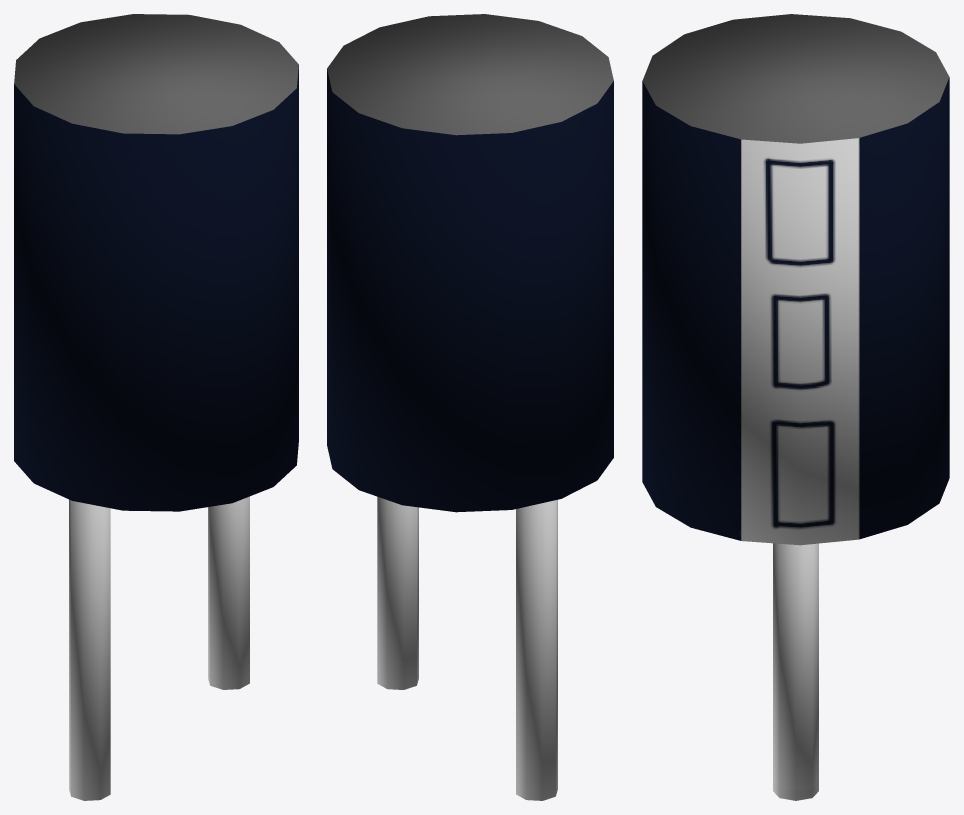
File: capacitorElectrolyzte.glb
3 views of the same model, side by side, from view 1: azimuth 30°, elevation 25°; view 2: azimuth 150°, elevation 25°; view 3: azimuth 270°, elevation 25° (orthographic). The views are drawn at different scales.
Visible parts, largest first — view 1: CElectrolyzte; view 2: CElectrolyzte; view 3: CElectrolyzte.
Boxes of the visible parts, <box> form: CElectrolyzte: <box>14,14,298,800</box>; CElectrolyzte: <box>327,14,613,800</box>; CElectrolyzte: <box>642,14,949,800</box>.
Size of the model in its own units: 0.2187 by 0.587 by 0.2187.
Materials: 1 (1 with a texture image).
